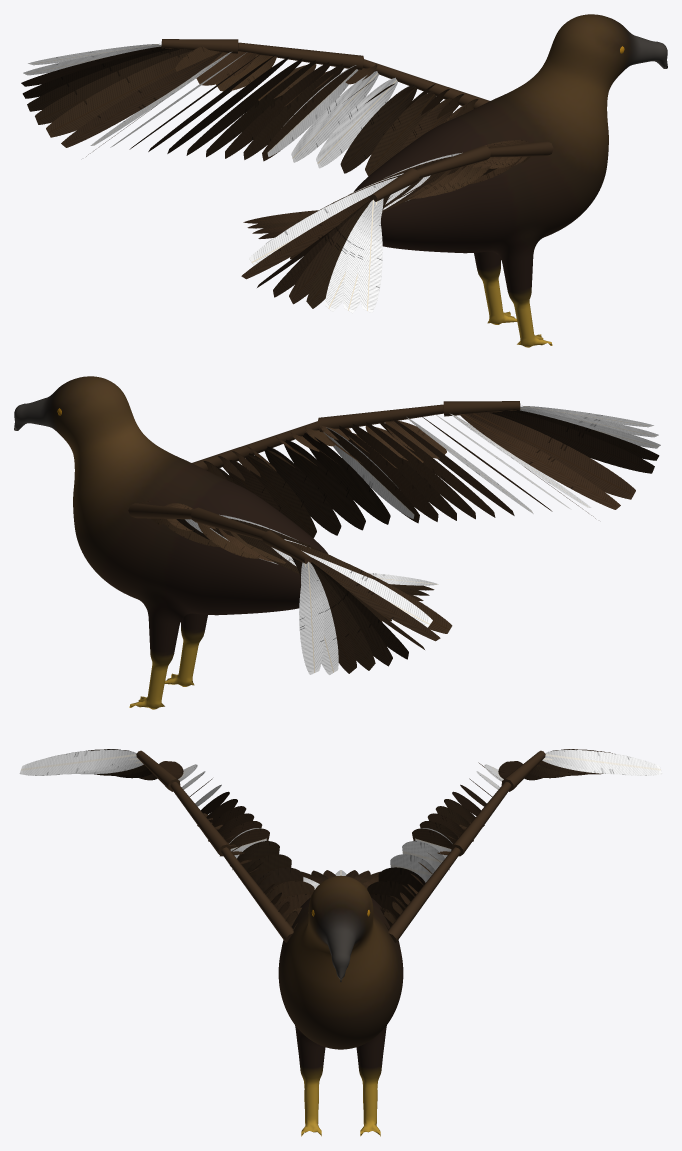
File: roc.glb
3 renders of one model, top to bottom at view 1: azimuth 30°, elevation 25°; view 2: azimuth 150°, elevation 25°; view 3: azimuth 270°, elevation 25°, orthographic. The views are drawn at different scales.
Size of the model in its own units: 3.54 by 1.95 by 4.06.
Materials: 79 (74 with a texture image).
